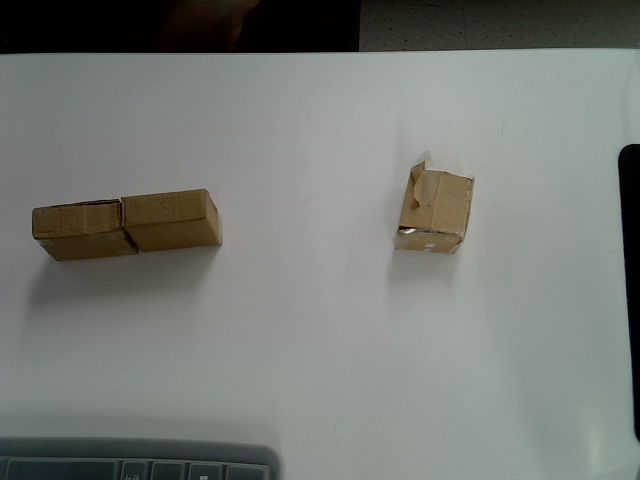defect: (392, 152, 475, 254)
normal: (31, 199, 138, 262), (122, 188, 222, 252)
